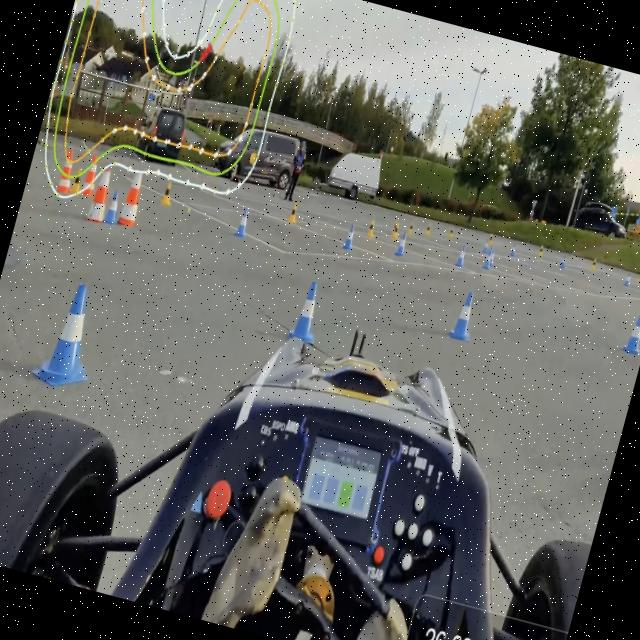blue_cone: (21, 272, 116, 398), (282, 276, 332, 349), (445, 285, 483, 345), (617, 306, 640, 357), (101, 188, 125, 228), (337, 218, 360, 255), (230, 205, 253, 241), (392, 228, 410, 258), (454, 242, 469, 269), (480, 246, 494, 272), (621, 270, 633, 289), (486, 247, 497, 267), (556, 252, 568, 270), (508, 242, 518, 258), (480, 237, 490, 253)
large_orange_cone: (115, 163, 152, 232), (84, 164, 118, 227), (52, 146, 81, 199), (78, 150, 104, 202)
yellow_cone: (157, 176, 179, 210), (68, 164, 86, 197), (284, 200, 302, 228), (363, 216, 378, 240), (534, 242, 546, 260), (404, 220, 416, 238), (390, 218, 400, 237), (422, 220, 433, 237), (588, 256, 598, 273), (391, 223, 401, 240), (446, 226, 456, 242), (485, 232, 495, 247), (635, 268, 640, 285)
